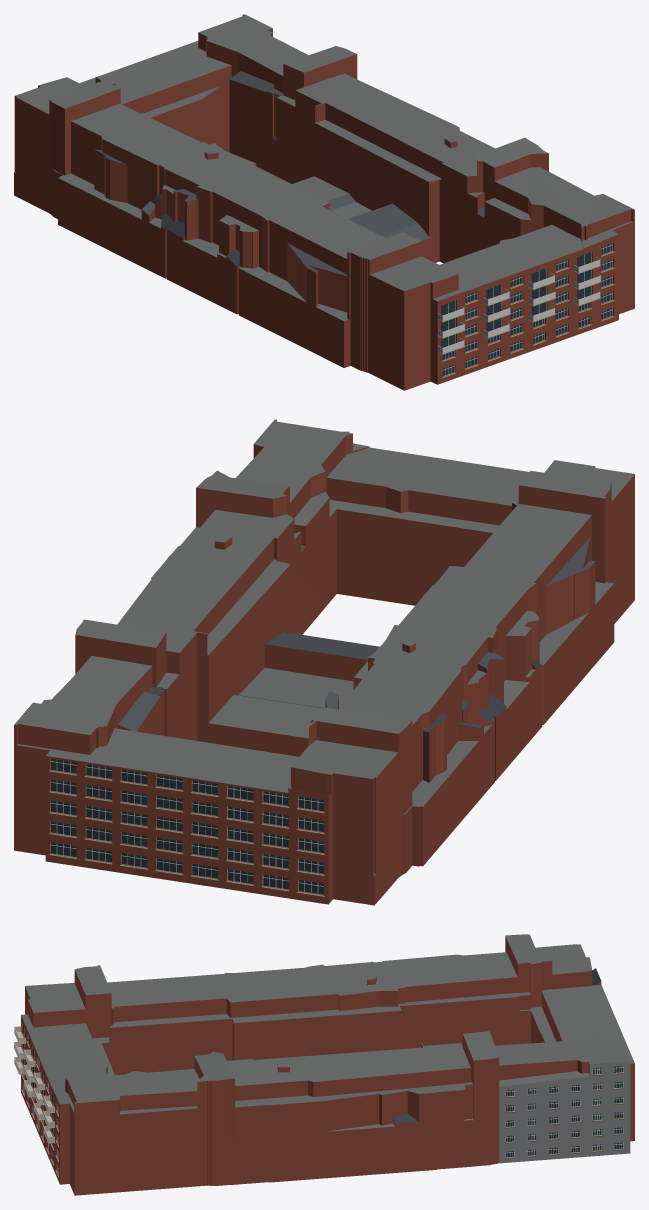
Rendered from recipe-large-balboaplein-48-147097.glb.
The picture shows the model from 3 angles, top to bottom: view 1: azimuth 30°, elevation 25°; view 2: azimuth 150°, elevation 25°; view 3: azimuth 270°, elevation 25°; orthographic projection. The views are drawn at different scales.
Visible parts, largest first — view 1: balboaplein-48-147097; view 2: balboaplein-48-147097; view 3: balboaplein-48-147097.
Boxes of the visible parts, x1,y1,x2,y2 form: balboaplein-48-147097: [14, 14, 634, 390]; balboaplein-48-147097: [14, 419, 634, 905]; balboaplein-48-147097: [14, 934, 634, 1195].
Bounding box in the file's own units: 65.14 × 20.29 × 107.
